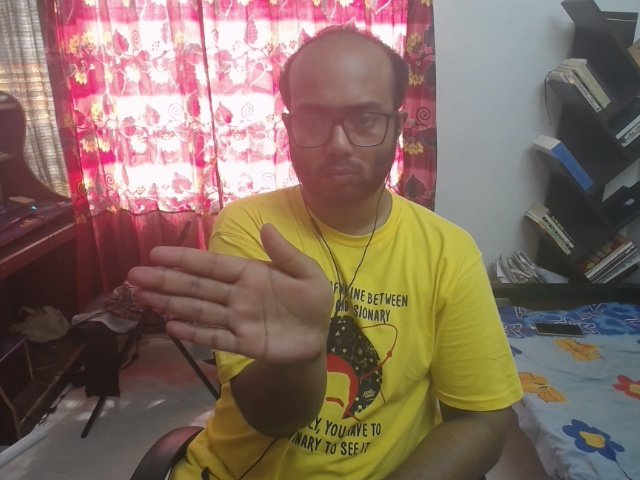south: (127, 196, 342, 399)
